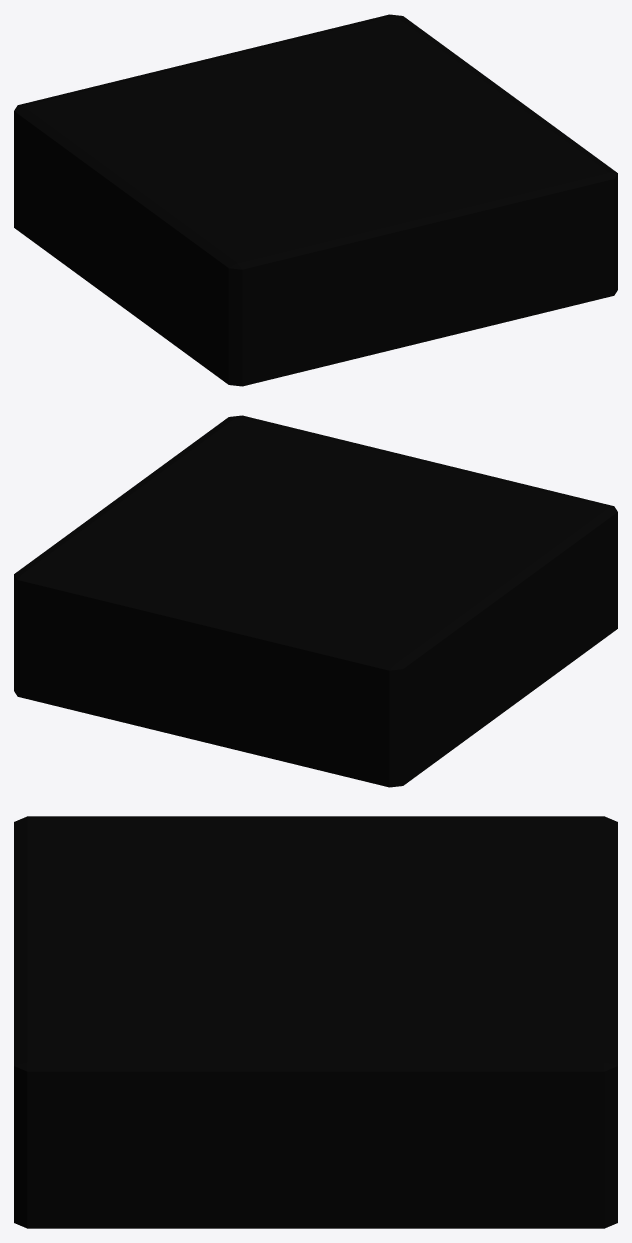
The model's file is track2.obj.
3 renders of one model, top to bottom at view 1: azimuth 30°, elevation 25°; view 2: azimuth 150°, elevation 25°; view 3: azimuth 270°, elevation 25°, orthographic. The views are drawn at different scales.
Visible parts, largest first — view 1: 立方体; view 2: 立方体; view 3: 立方体.
Boxes of the visible parts, x1,y1,x2,y2 form: 立方体: [14, 14, 617, 386]; 立方体: [14, 415, 617, 787]; 立方体: [14, 816, 617, 1228].
Bounding box in the file's own units: 2 × 0.6 × 2.
1 material, 1 textured.
